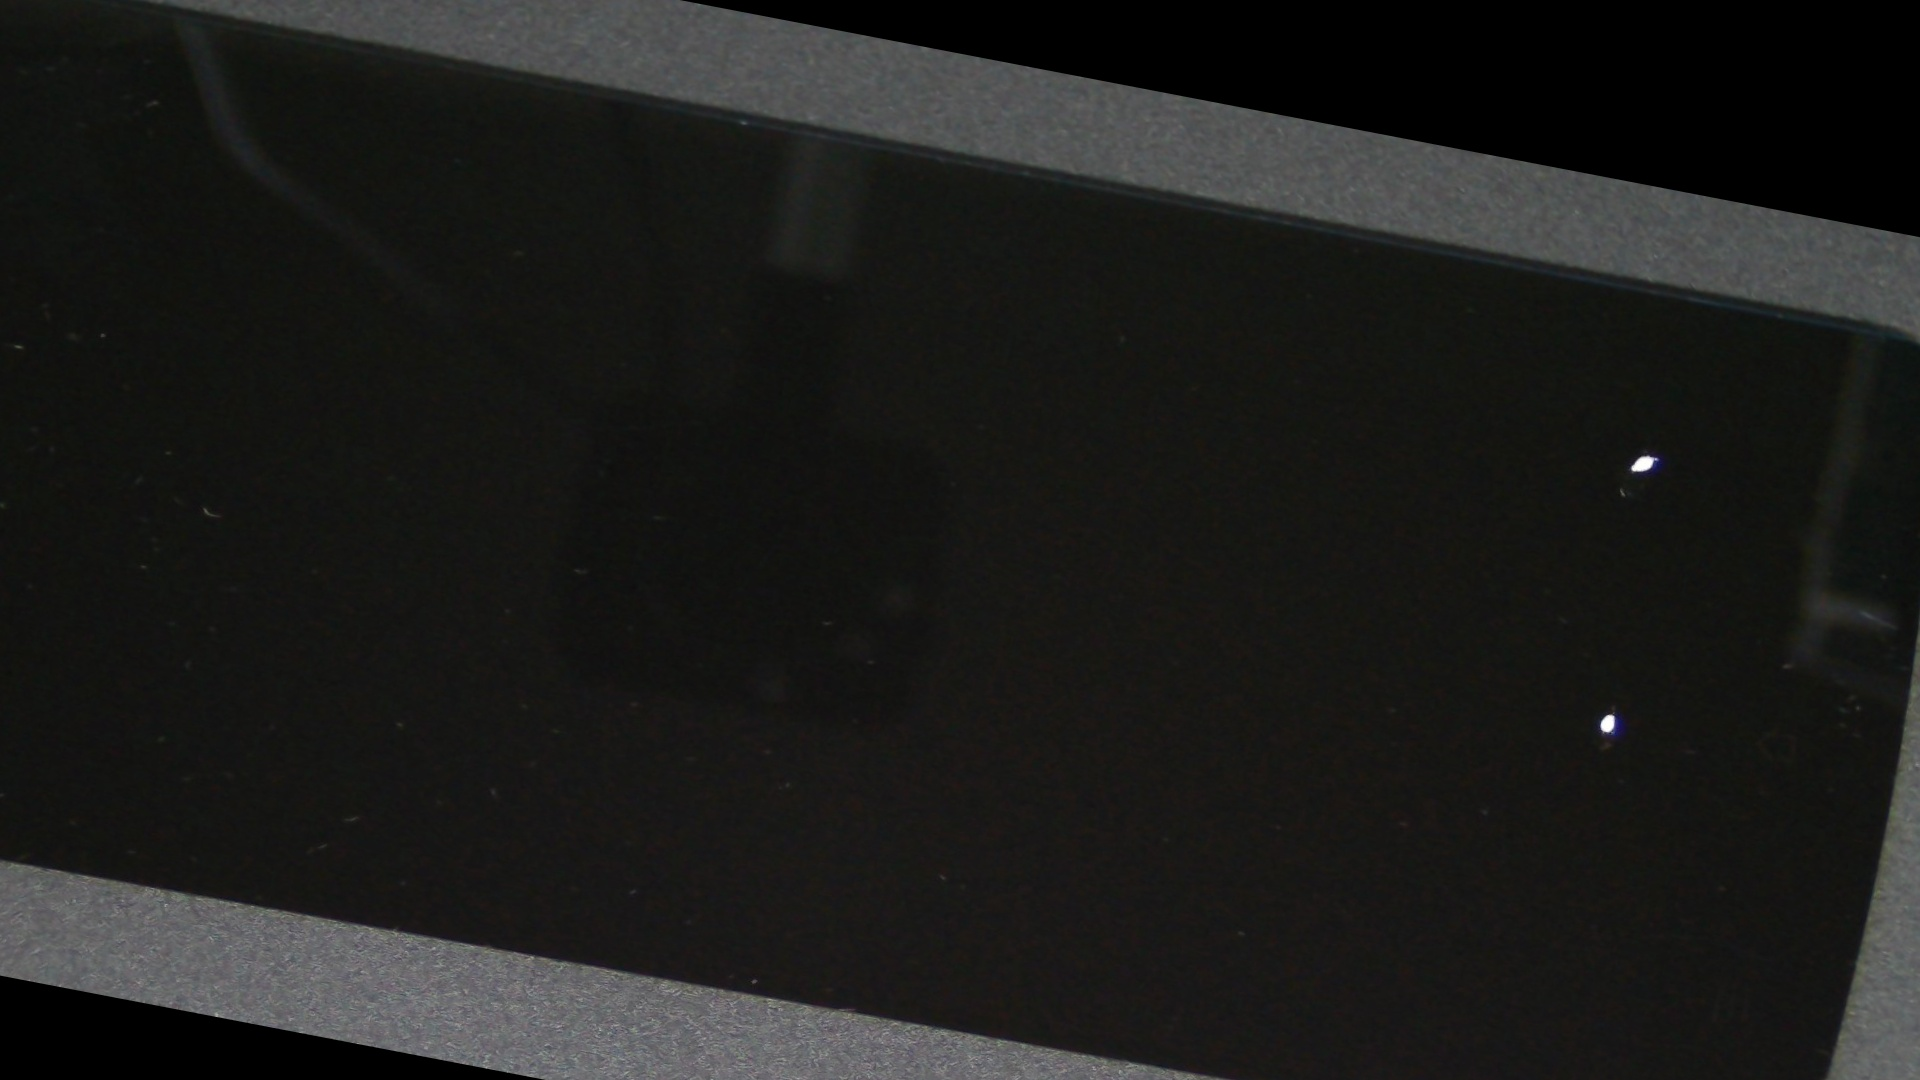oil: (642, 278, 1920, 1048), (708, 149, 1920, 665)
